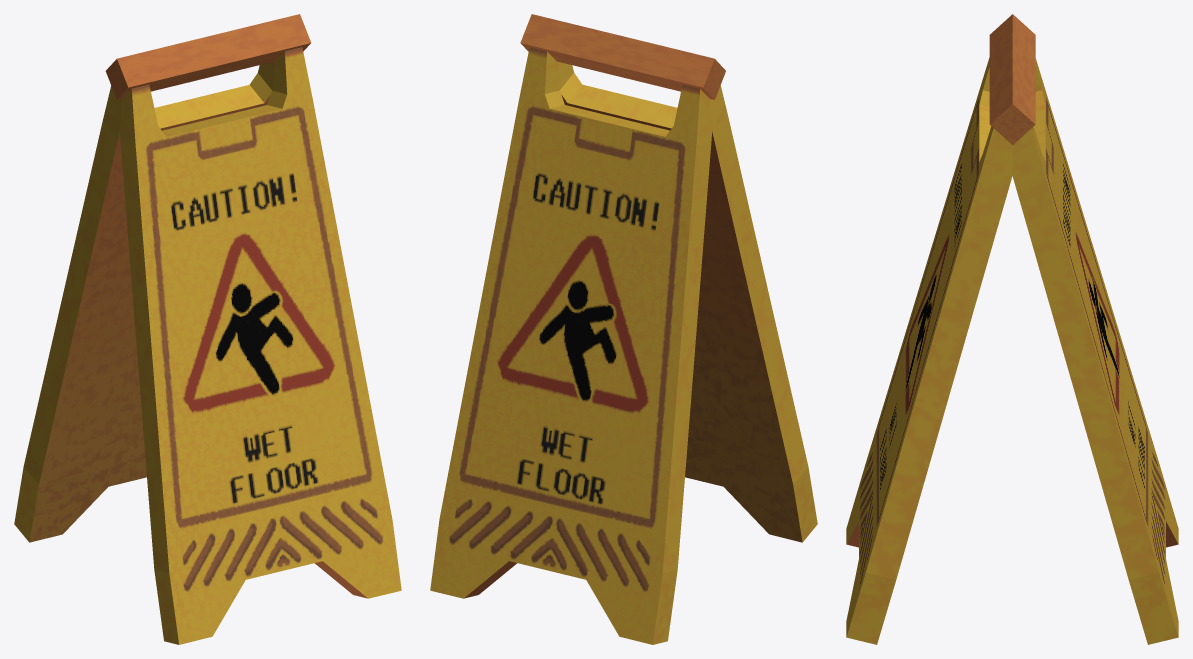
The model's file is jumpObjint3waterthingy.fbx.
3 views of the same model, side by side, from view 1: azimuth 30°, elevation 25°; view 2: azimuth 150°, elevation 25°; view 3: azimuth 270°, elevation 25° (orthographic).
Parts seen in each view (by area): view 1: WetFloorSign; view 2: WetFloorSign; view 3: WetFloorSign.
Part boxes in pixels (left/top/right/bottom): WetFloorSign: left=14, top=14, right=401, bottom=644; WetFloorSign: left=430, top=14, right=817, bottom=644; WetFloorSign: left=846, top=14, right=1178, bottom=644.
Size of the model in its own units: 34.72 by 78.58 by 44.48.
